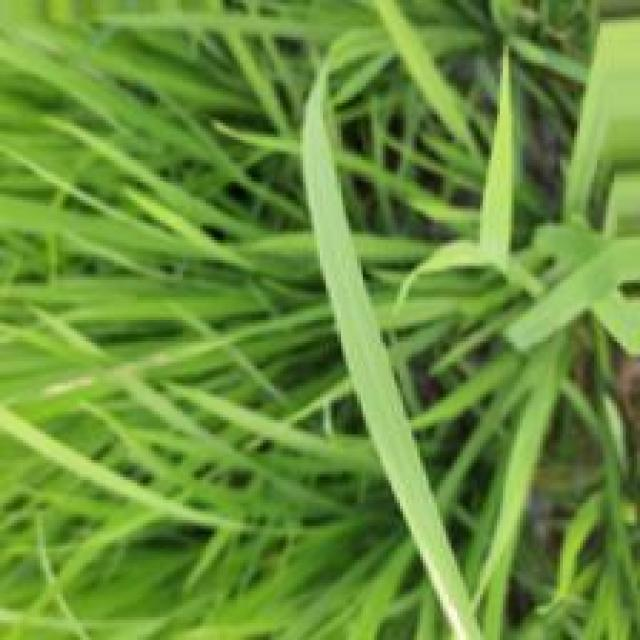HealthyLeaf: (298, 67, 485, 639)
